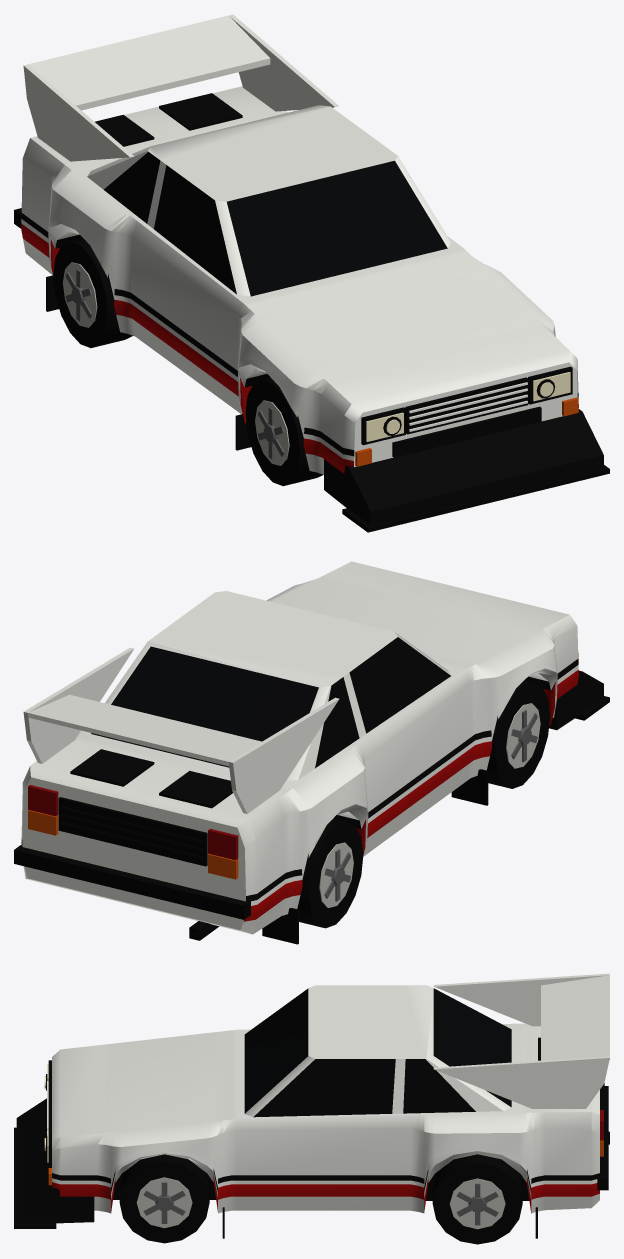
Rendered from sport-quattro-s1.glb.
The picture shows the model from 3 angles, top to bottom: view 1: azimuth 30°, elevation 25°; view 2: azimuth 150°, elevation 25°; view 3: azimuth 270°, elevation 25°; orthographic projection. The views are drawn at different scales.
Parts seen in each view (by area): view 1: body, cabin, cabin-body, chin, wing, wing-plate-right, wheel-back-right, wing-plate-left, body-red, wheel-front-right, grille, vents (+6 smaller); view 2: body, cabin, cabin-body, wing, wing-plate-right, bumper-rear, tail-panel, wheel-back-right, body-red, wing-plate-left, wheel-front-right, body-dark (+11 smaller); view 3: body, cabin, cabin-body, wing-plate-left, wing, chin, body-red, wheel-back-left, wheel-front-left, wing-plate-right, body-dark, rim-front-left (+3 smaller).
Part boxes in pixels (x1,y1,x2,y2): body: (21, 86, 578, 474); cabin: (103, 152, 447, 296); cabin-body: (87, 105, 451, 296); chin: (324, 409, 603, 525); wing: (28, 15, 270, 110); wing-plate-right: (23, 64, 133, 161); wheel-back-right: (53, 238, 132, 347); wing-plate-left: (229, 14, 339, 111); body-red: (21, 223, 578, 473); wheel-front-right: (245, 377, 323, 486); grille: (405, 377, 528, 434); vents: (392, 406, 541, 457); body: (21, 561, 578, 934); cabin: (91, 637, 450, 768); cabin-body: (90, 591, 450, 780); wing: (28, 694, 261, 766); wing-plate-right: (228, 697, 339, 813); bumper-rear: (14, 845, 250, 919); tail-panel: (58, 797, 207, 866); wheel-back-right: (297, 818, 363, 928); body-red: (243, 669, 578, 921); wing-plate-left: (23, 647, 133, 763); wheel-front-right: (486, 680, 549, 788); body-dark: (21, 659, 578, 901); body: (52, 1023, 599, 1213); cabin: (244, 988, 511, 1117); cabin-body: (245, 985, 511, 1116); wing-plate-left: (433, 1056, 609, 1108); wing: (541, 975, 609, 1060); chin: (16, 1098, 94, 1223); body-red: (52, 1176, 599, 1213); wheel-back-left: (432, 1154, 522, 1244); wheel-front-left: (119, 1154, 209, 1243); wing-plate-right: (433, 973, 609, 1026); body-dark: (52, 1169, 599, 1192); rim-front-left: (136, 1177, 192, 1228).
Size of the model in its own units: 1.8 by 1.39 by 4.23.
